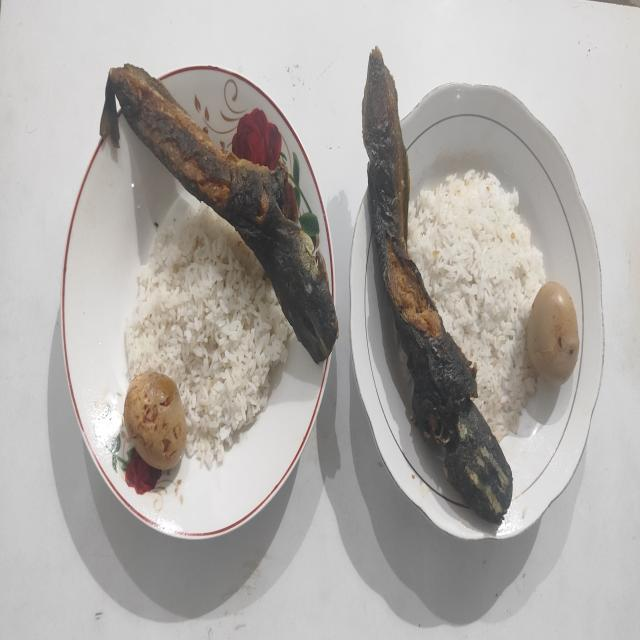nasi_putih: (125, 210, 292, 468), (409, 170, 546, 440)
